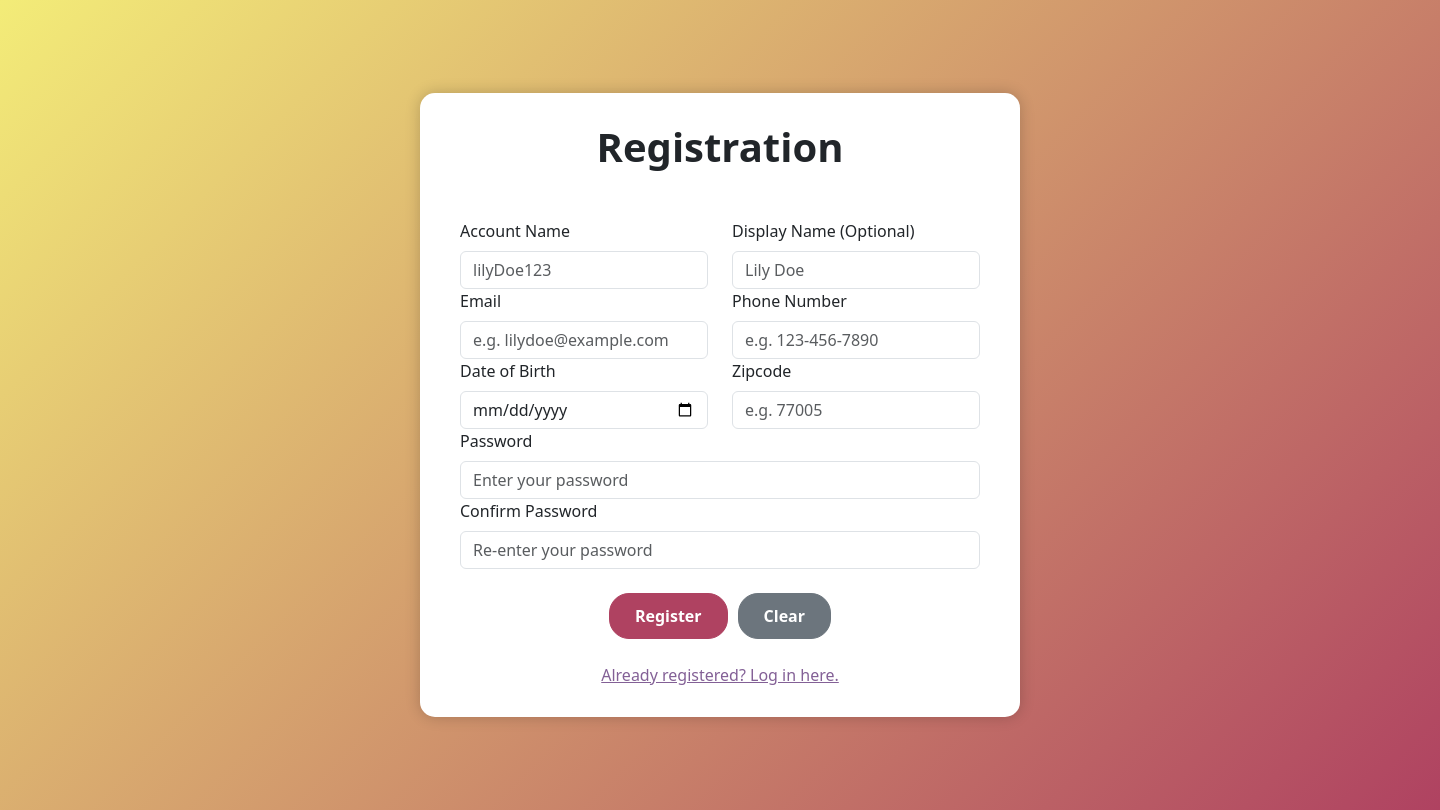
RegistrationForm › shows an error message for invalid inputs
Type "12@1.v" into the field labelled "Email" at (584, 340), box [460,321,708,359]
Type "password1" into the password field labelled "Password" at (720, 480), box [460,461,980,499]
Type "password2" into the password field labelled "Confirm Password" at (720, 550), box [460,531,980,569]
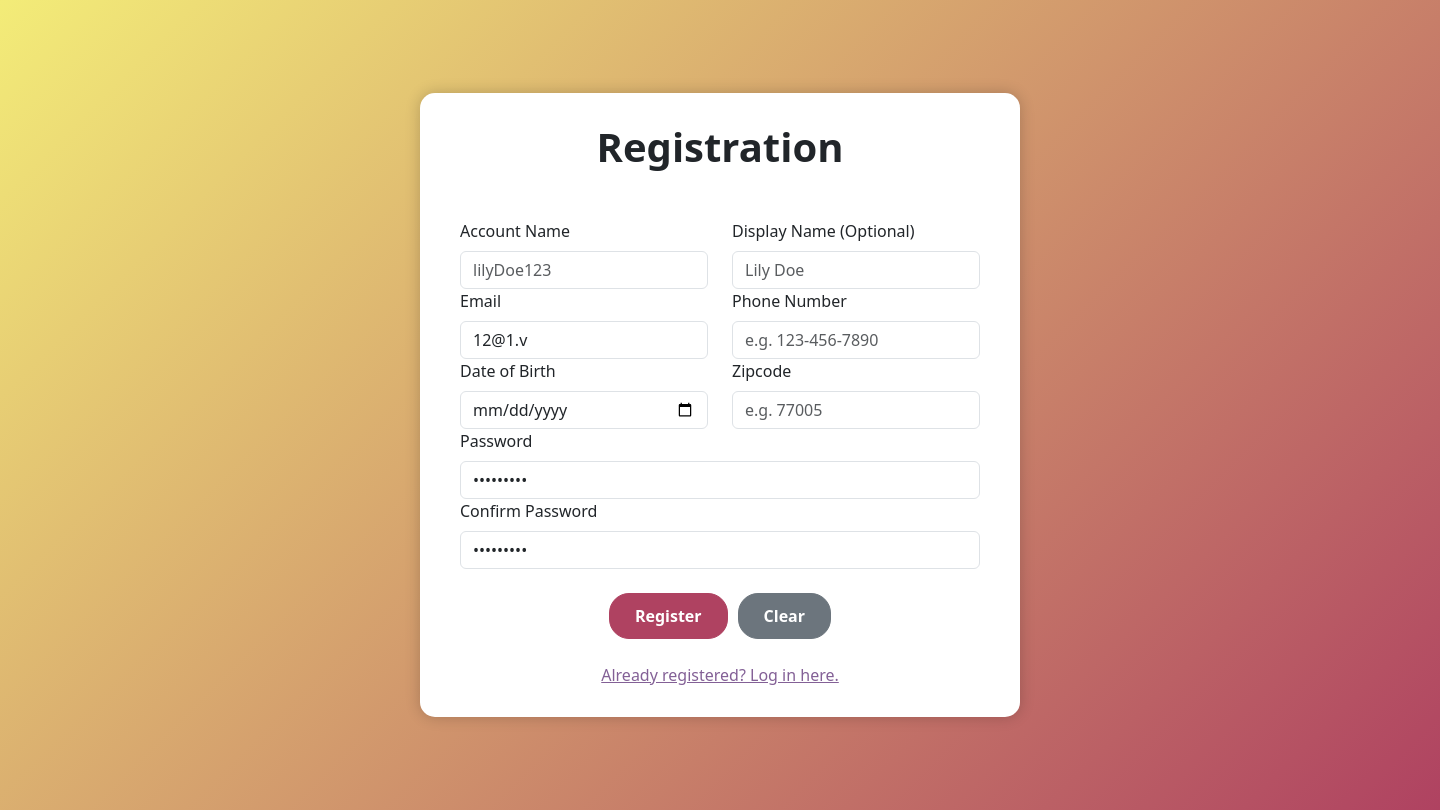
Type "invalid-phone-number" into the field labelled "Phone Number" at (856, 340), box [732,321,980,359]
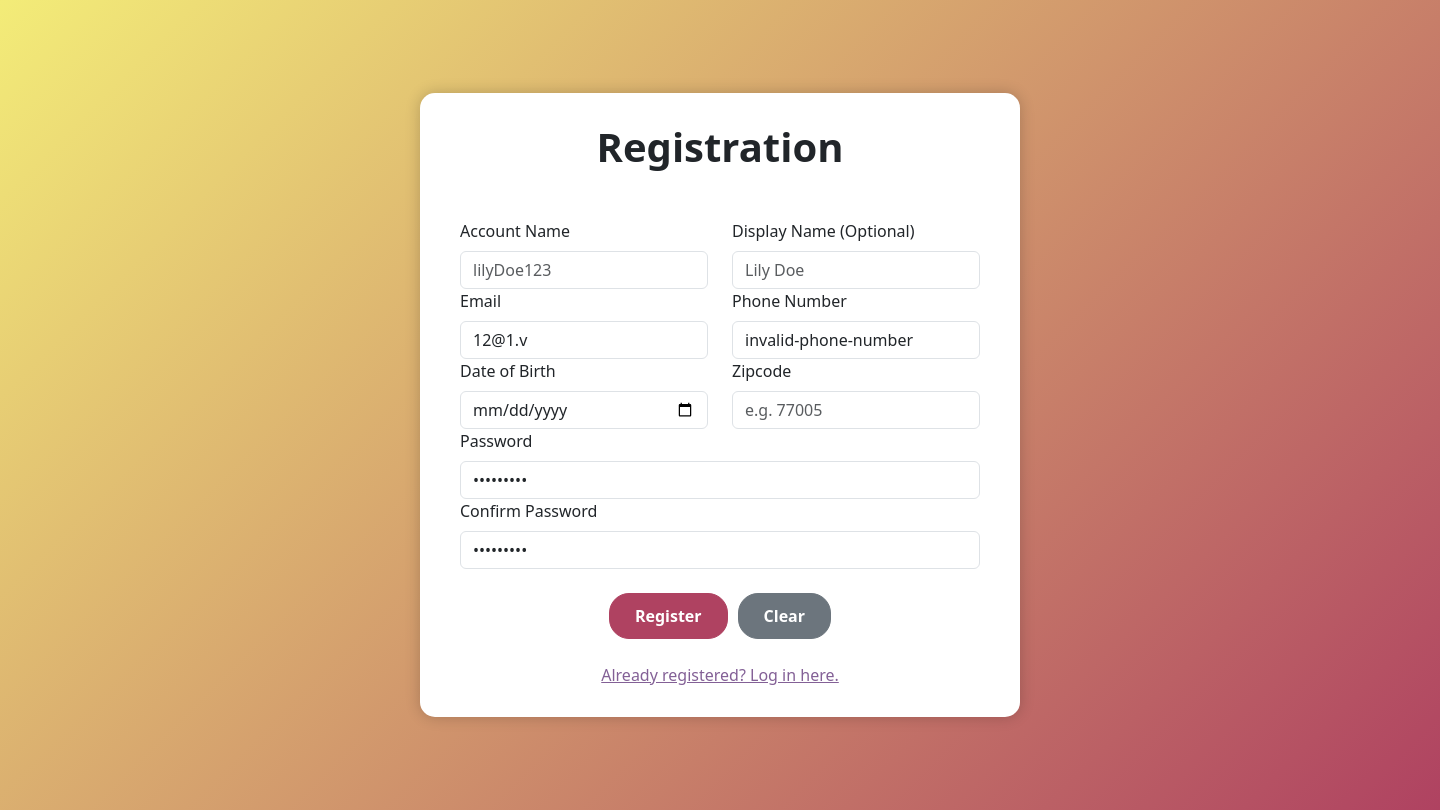
Type "invalid-zipcode" into the field labelled "Zipcode" at (856, 410), box [732,391,980,429]
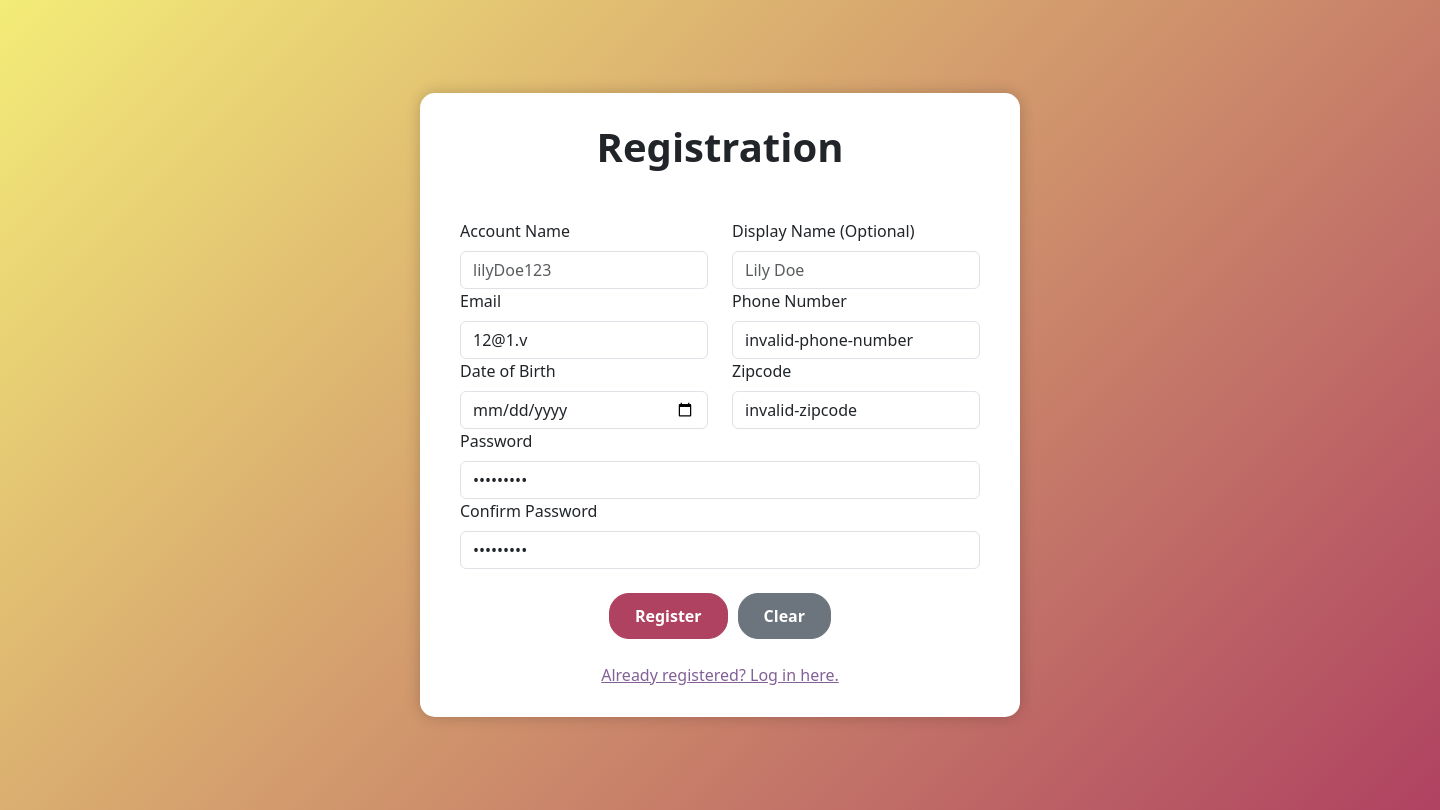
Type "Antonette1" into the field labelled "Account Name" at (584, 270), box [460,251,708,289]
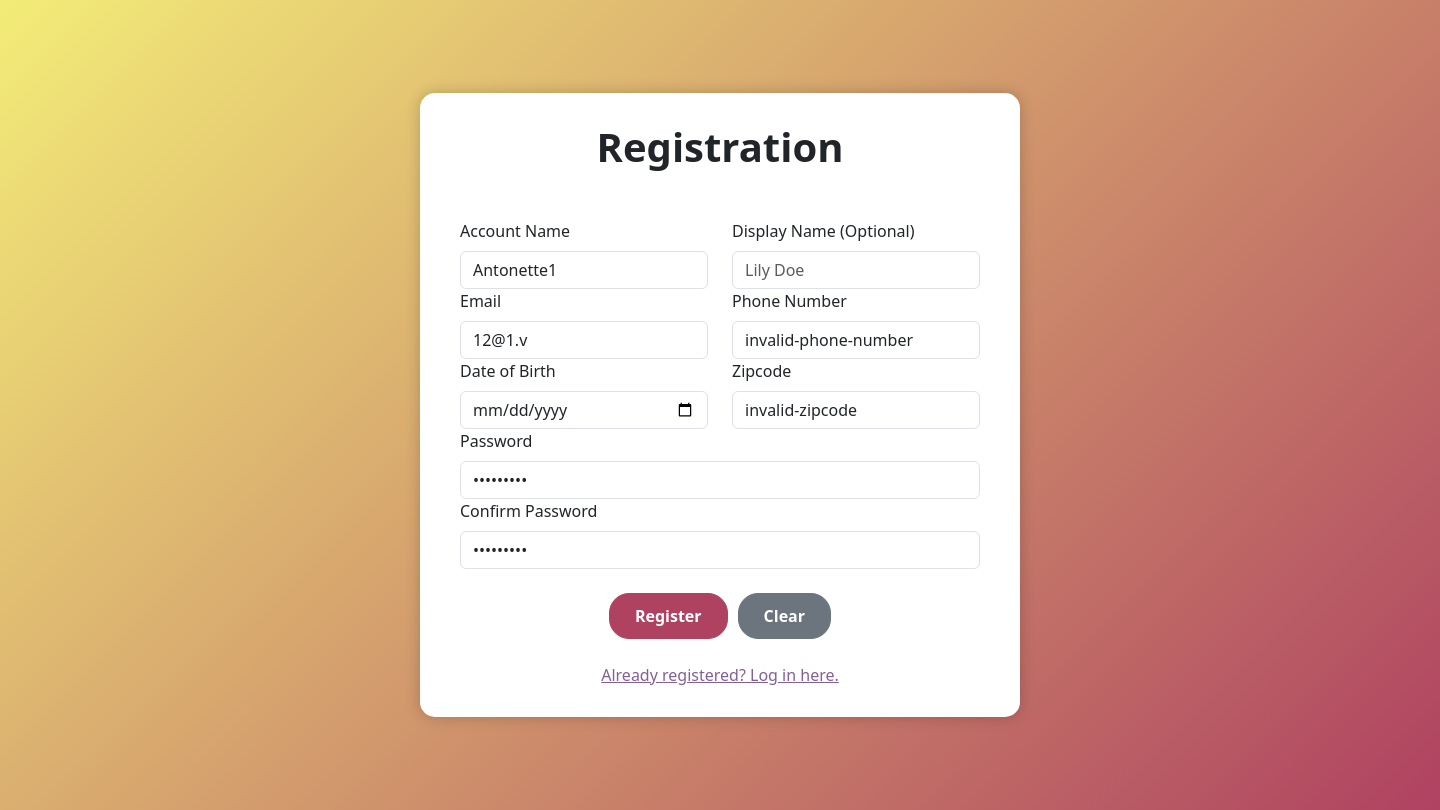
Type "2010-01-01" into the date field labelled "Date of Birth" at (584, 410), box [460,391,708,429]
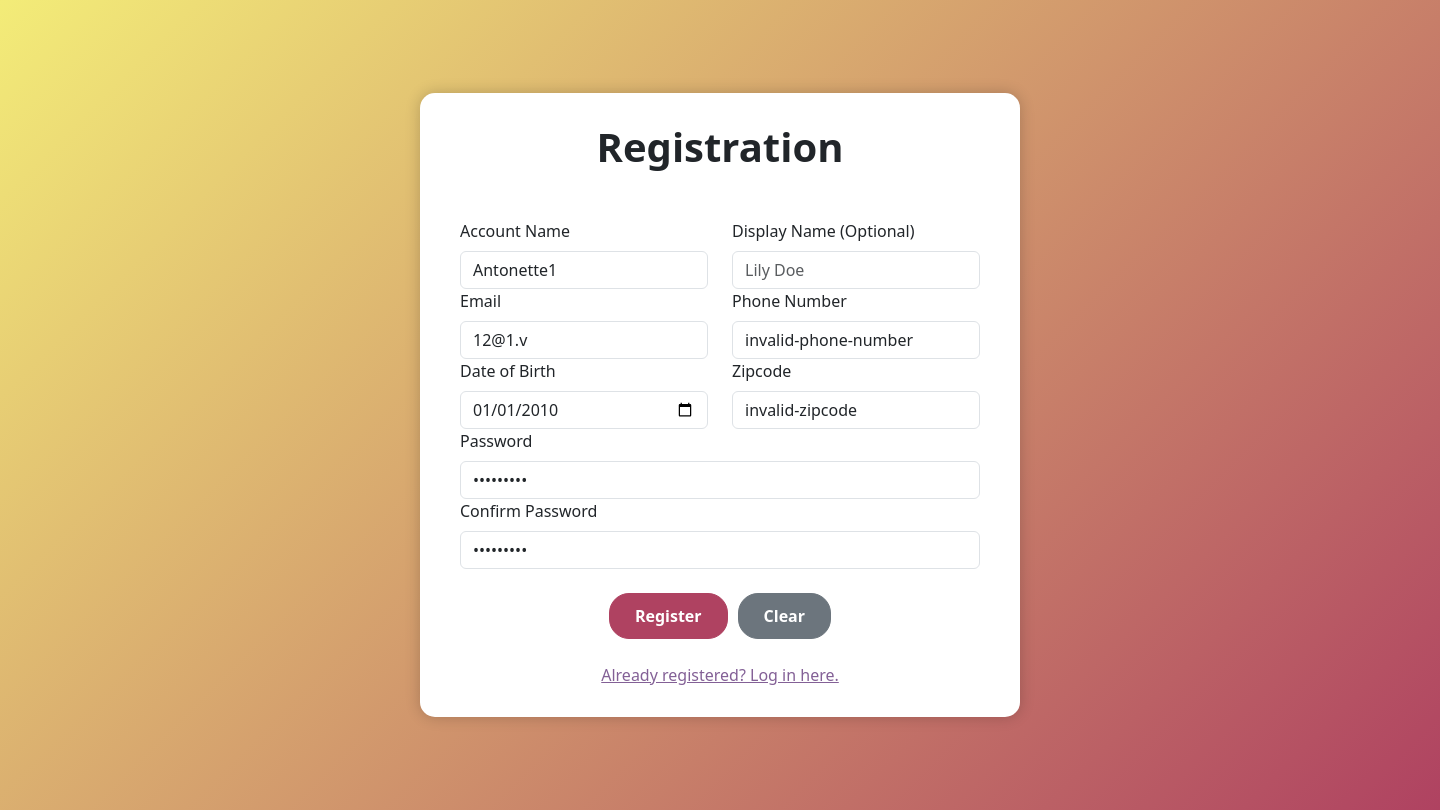
Click the button "Register" at (668, 616), box [609,593,728,639]
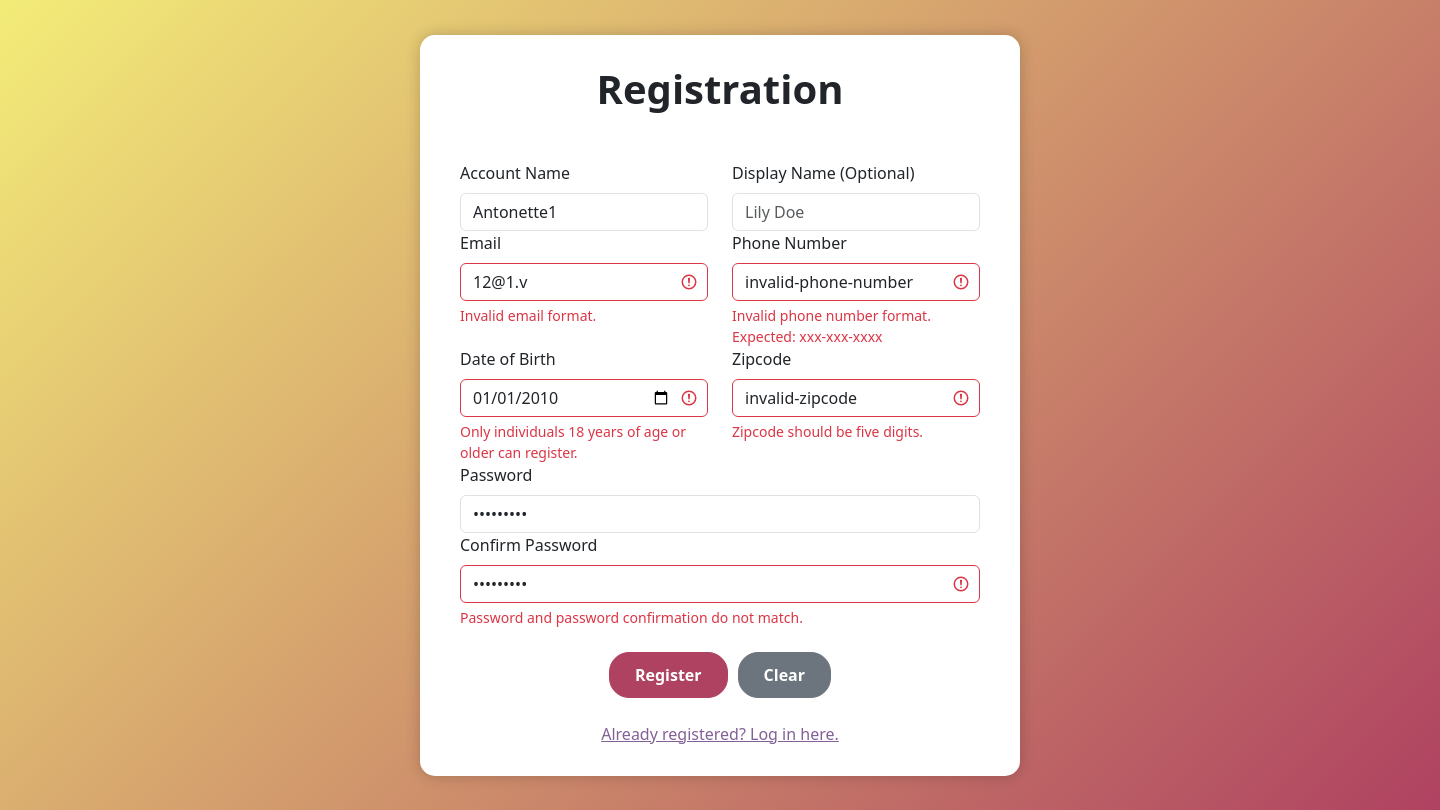
Expected: the text "Invalid email format." is shown, [460,306,596,324]
Expected: the text "Password and password confirmation do not match." is shown, [460,608,803,626]
Expected: the text "Invalid phone number format. Expected: xxx-xxx-xxxx" is shown, [732,306,931,346]
